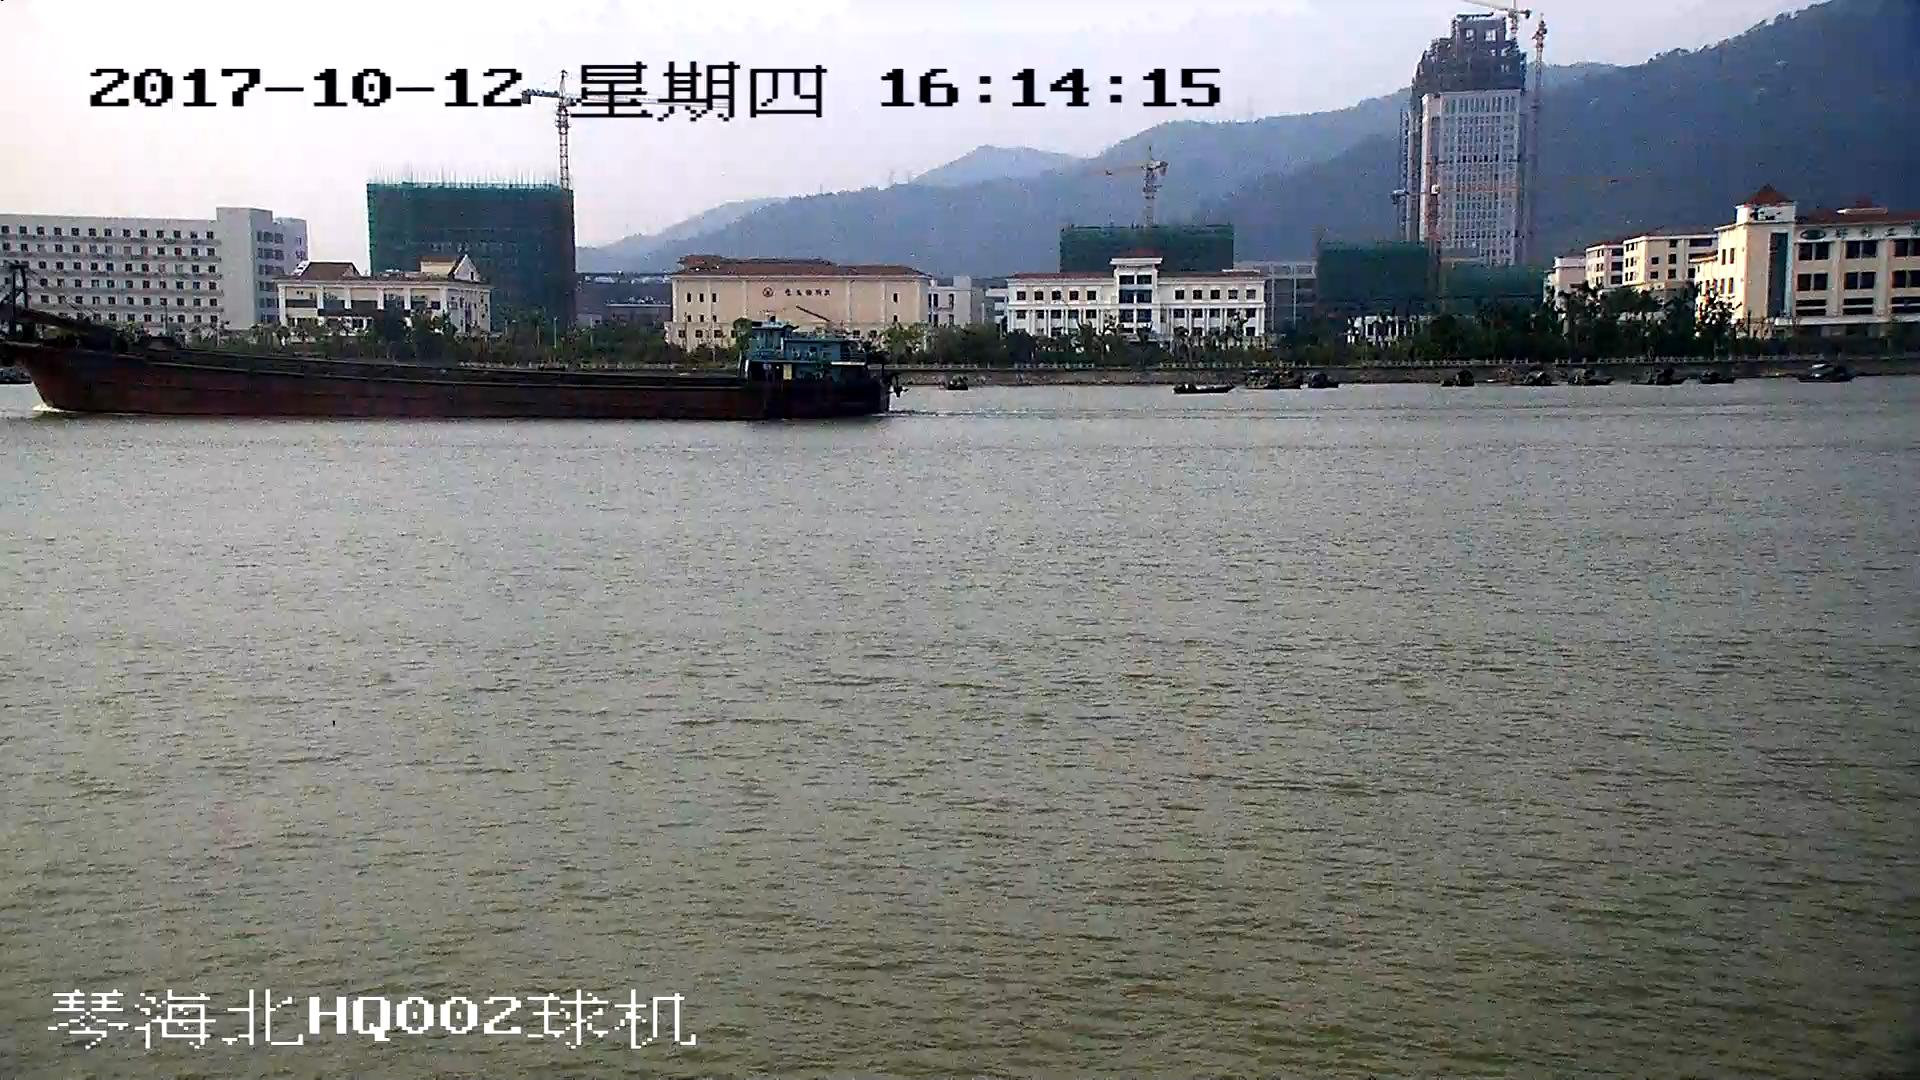bulk cargo carrier: (1, 301, 901, 417)
